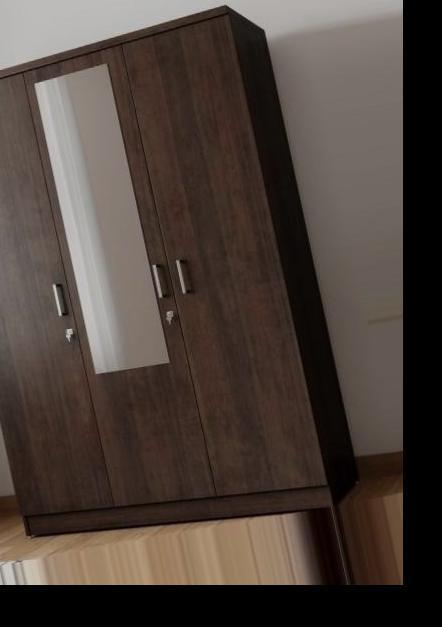Armario: (0, 7, 361, 531)
